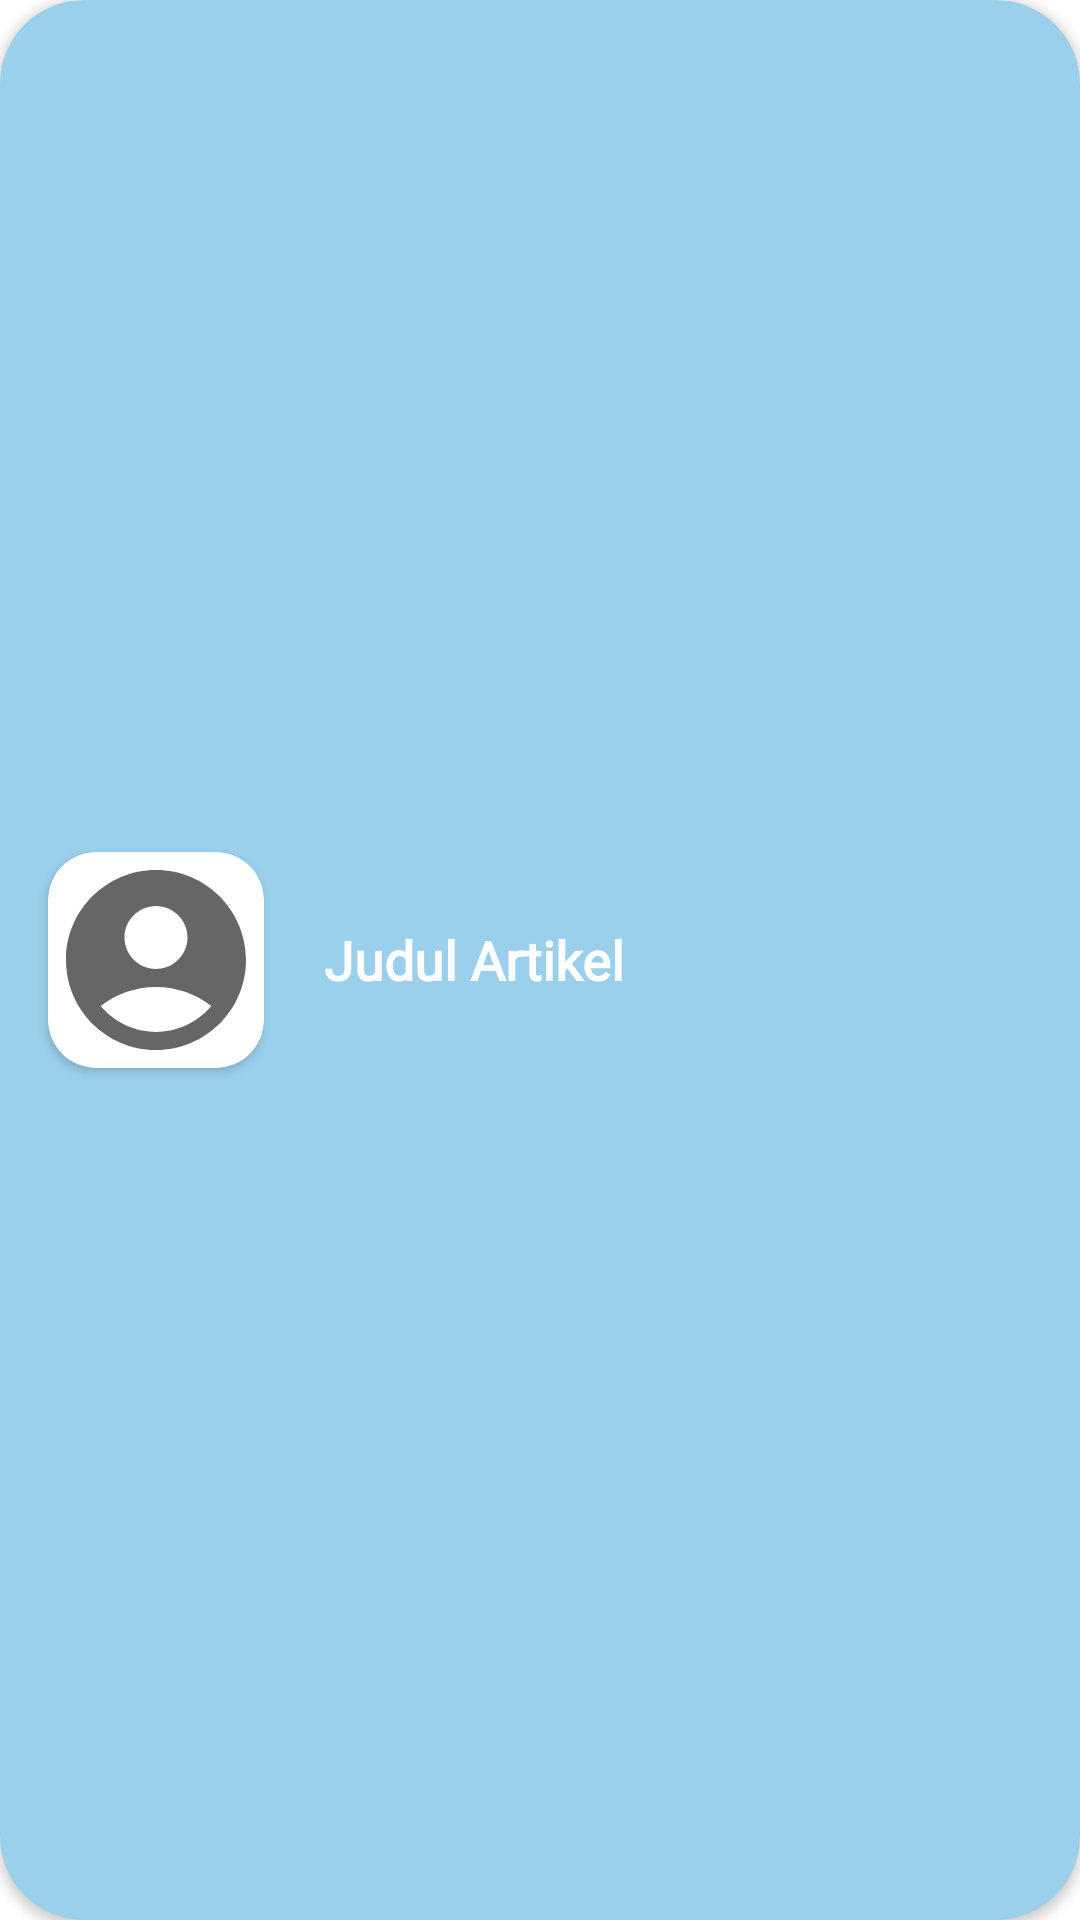

Icons on this 1080x1920 Android screen, each with the point to tap as (x,y):
profile: (156,960)
